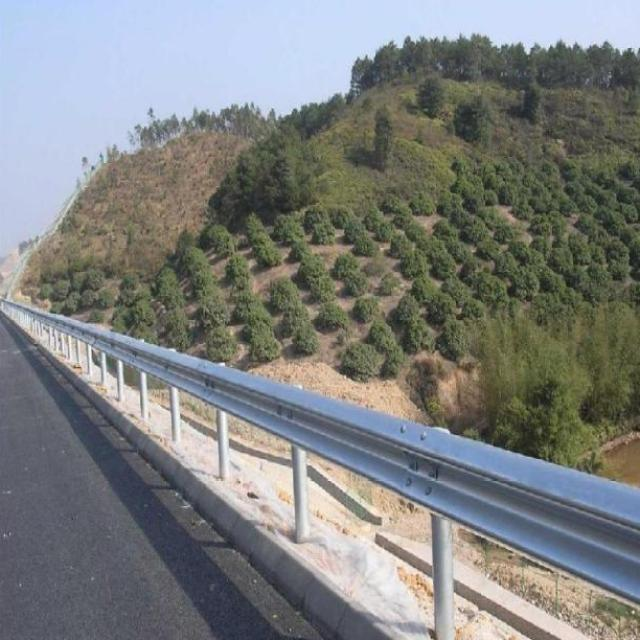Guard rail: (3, 302, 640, 606)
